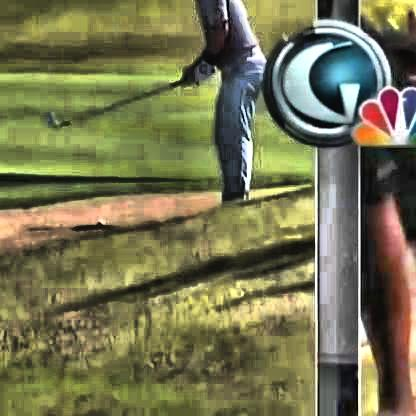golfball: (95, 215, 102, 225)
